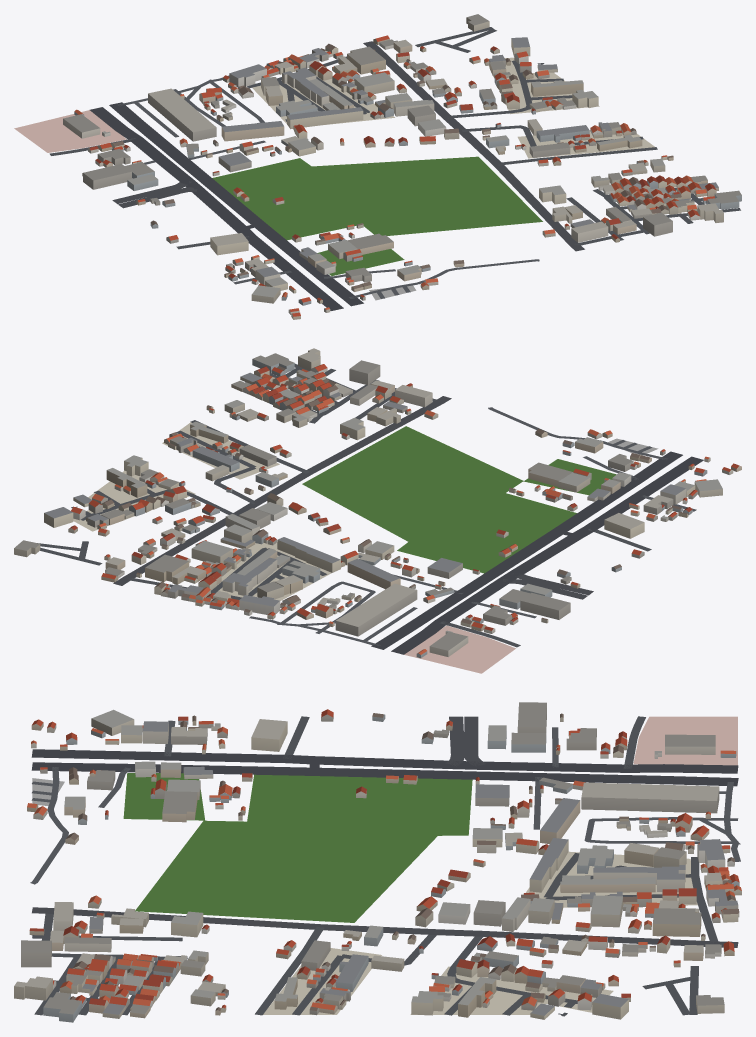
The picture shows the model from 3 angles, top to bottom: view 1: azimuth 30°, elevation 25°; view 2: azimuth 150°, elevation 25°; view 3: azimuth 270°, elevation 25°; orthographic projection. The views are drawn at different scales.
Visible parts, largest first — view 1: landuse, buildings_roofs, buildings_walls, roads; view 2: landuse, buildings_walls, buildings_roofs, roads; view 3: landuse, buildings_roofs, buildings_walls, roads.
Part boxes in pixels (x1,y1,x2,y2): landuse: [14, 57, 654, 300]; buildings_roofs: [63, 14, 741, 316]; buildings_walls: [63, 17, 741, 319]; roads: [49, 27, 740, 310]; landuse: [73, 422, 658, 673]; buildings_walls: [14, 350, 741, 658]; buildings_roofs: [14, 348, 739, 654]; roads: [37, 363, 703, 654]; landuse: [32, 716, 737, 1014]; buildings_roofs: [14, 702, 741, 1015]; buildings_walls: [14, 708, 741, 1022]; roads: [30, 716, 740, 1016].
Bounding box in the file's own units: 516 × 11.6 × 516.
